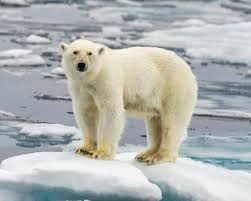PolarBear: (54, 33, 201, 166)
